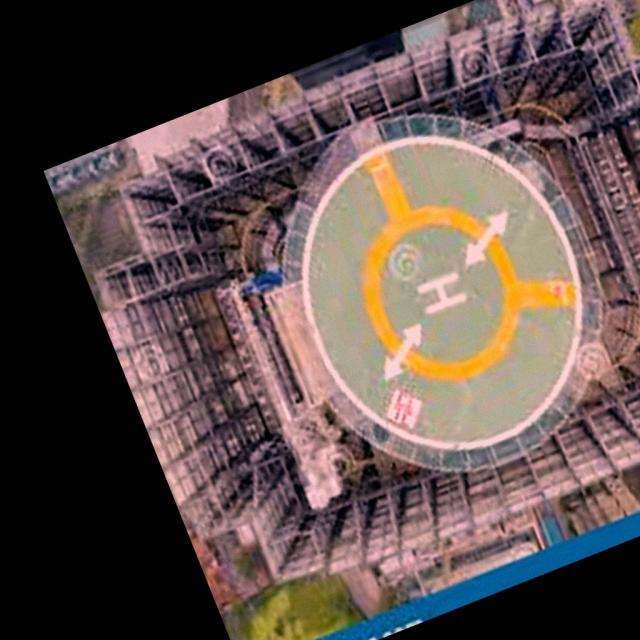helipad: (358, 205, 524, 382)
